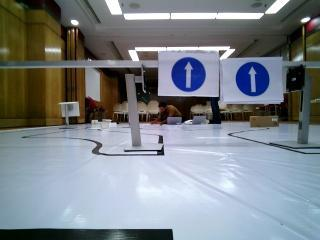straight: (159, 48, 218, 95), (223, 57, 281, 100)
